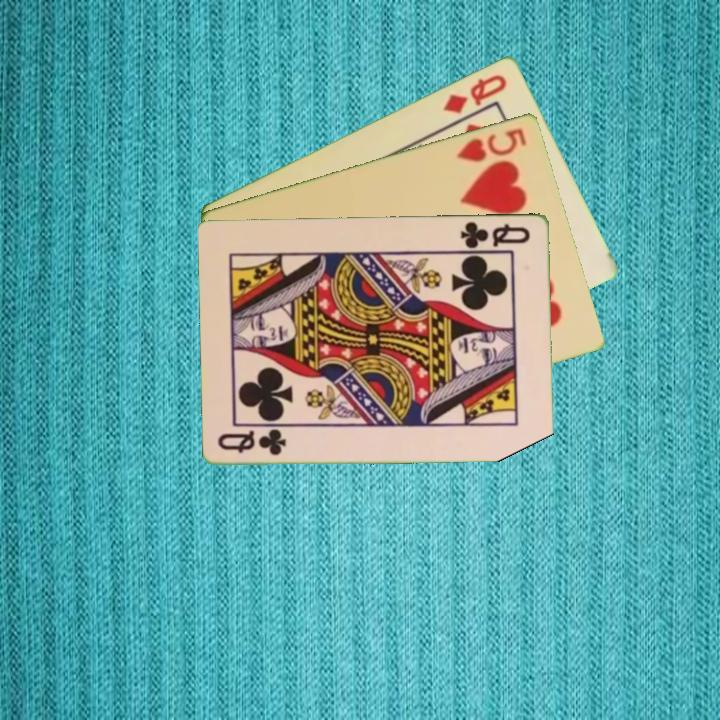5h: (453, 124, 530, 165)
Qc: (457, 218, 533, 251), (214, 427, 290, 458)
Qd: (439, 70, 510, 116)
